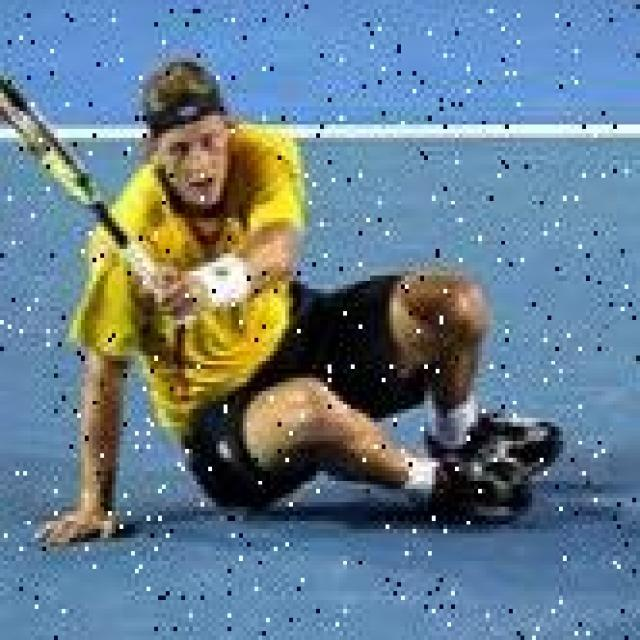fall: (70, 76, 556, 520)
